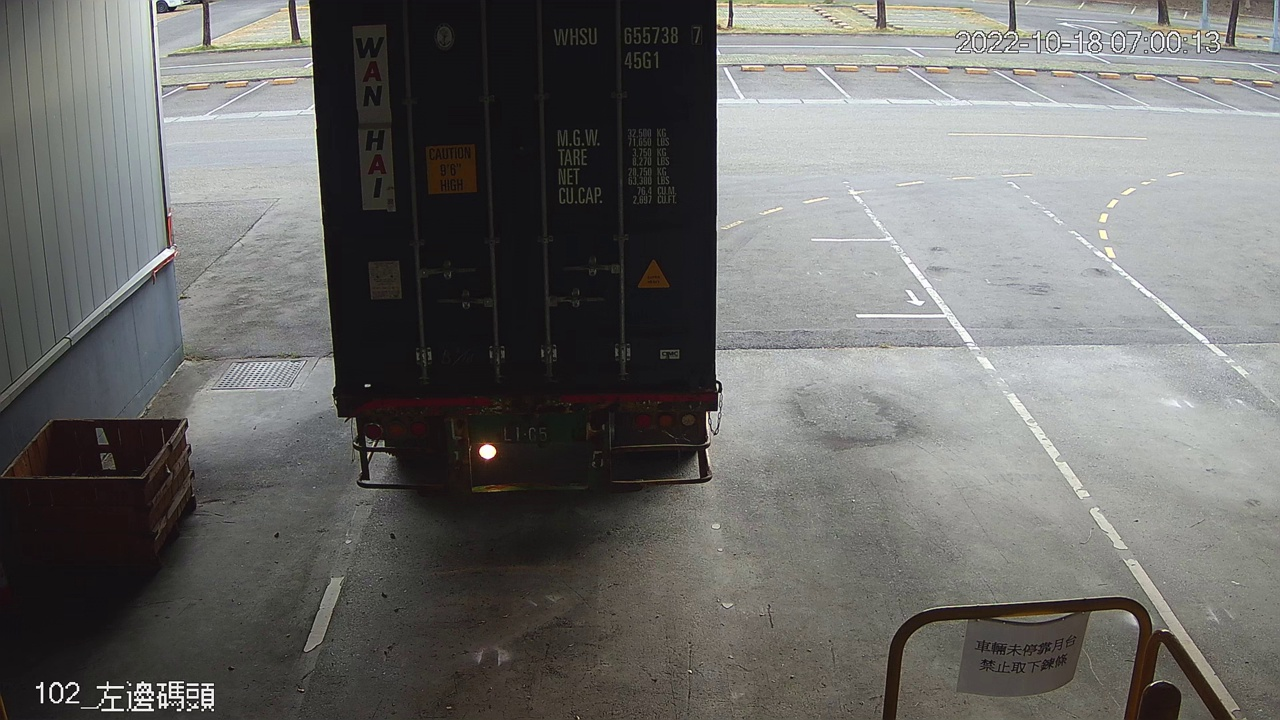container: (546, 19, 709, 75)
